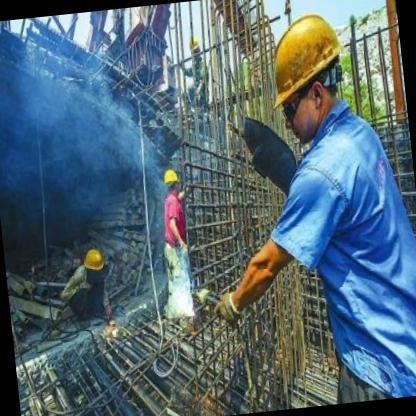helmet: (258, 2, 357, 151), (81, 248, 107, 284), (162, 164, 182, 197), (187, 32, 204, 63)
